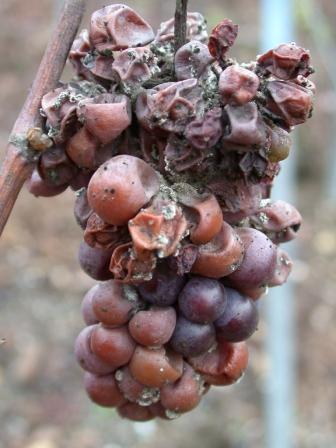Grape Rotten: (16, 1, 317, 422)
